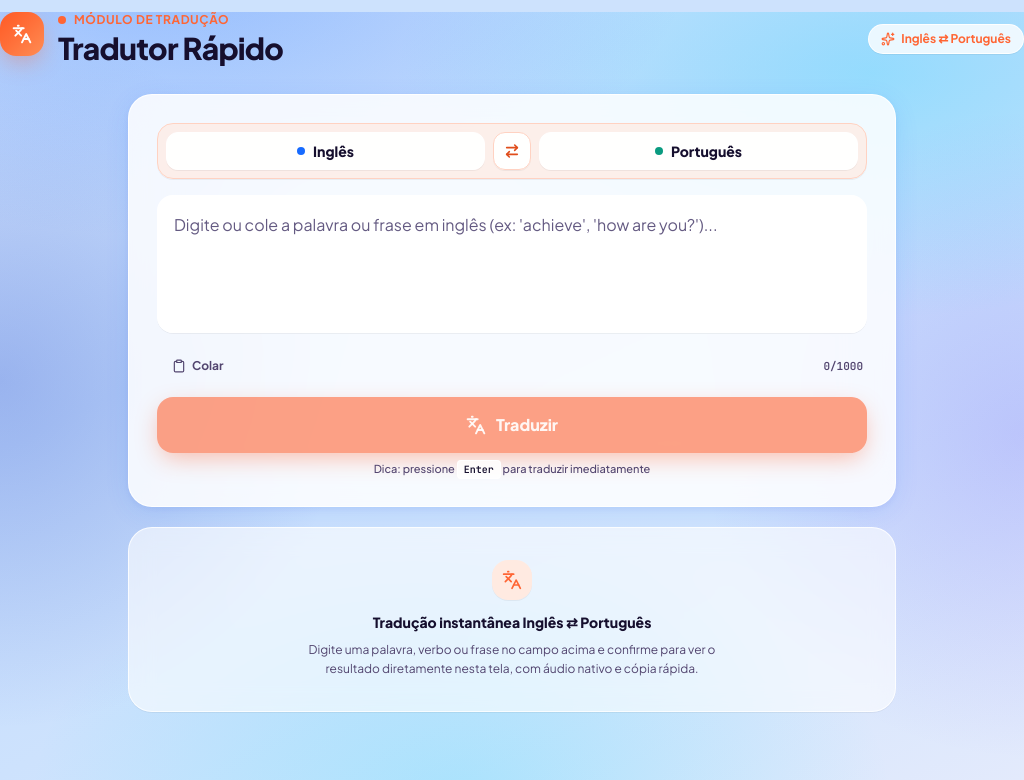
Scenario: QuickTranslatorView Component Tests › translates word on the same screen upon clicking Traduzir
This screenshot has width=1024, height=780.
Replace the text in the text box with placeholder "Digite ou cole a palavra ou frase em inglês" with "break" at coordinates (512, 264), box left=157, top=195, right=867, bottom=333
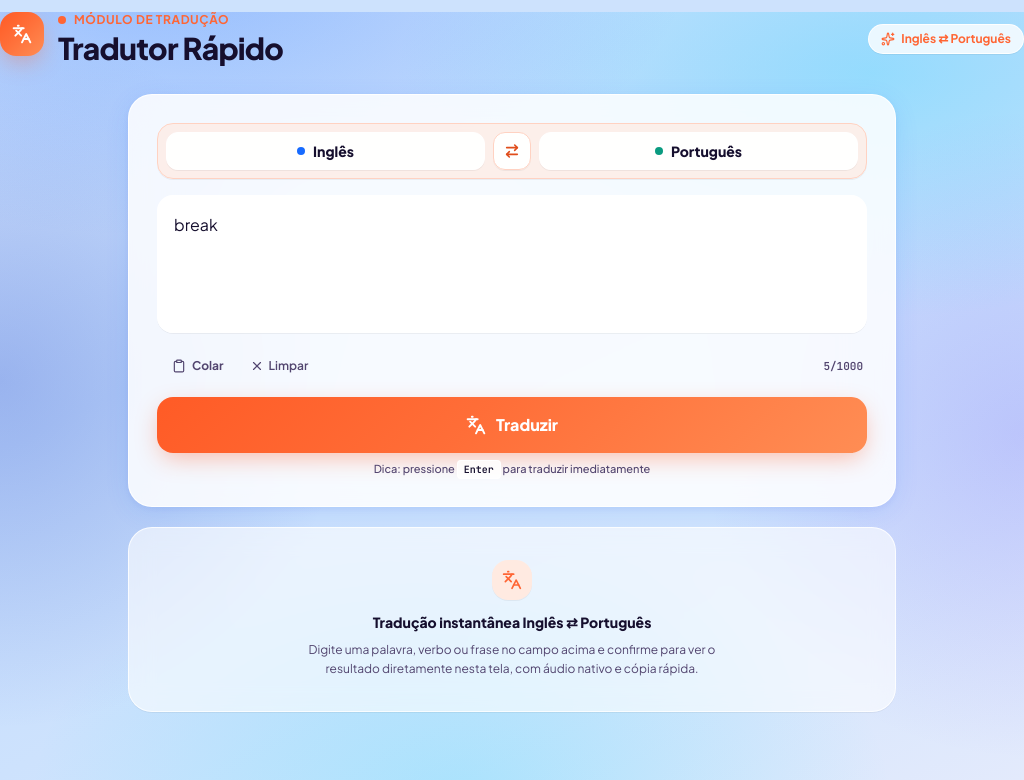
Click the button "Traduzir" at coordinates (512, 425), box left=157, top=397, right=867, bottom=453
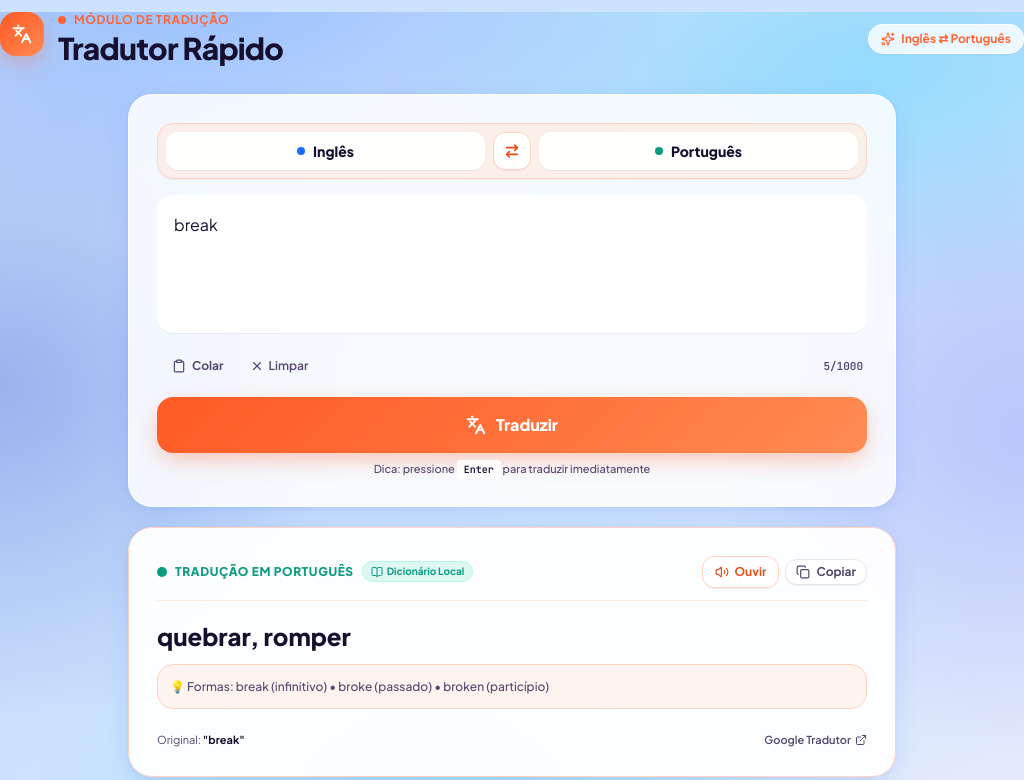
Now the text "Tradução em Português" is shown, box left=175, top=564, right=354, bottom=580
Now the text "quebrar, romper" is shown, box left=157, top=620, right=351, bottom=650
Now the text "Dicionário Local" is shown, box left=387, top=564, right=464, bottom=579
